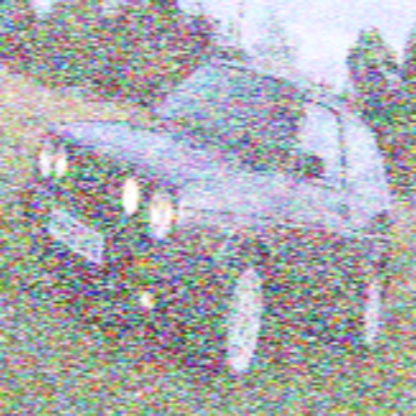Vehicle: (20, 58, 395, 384)
